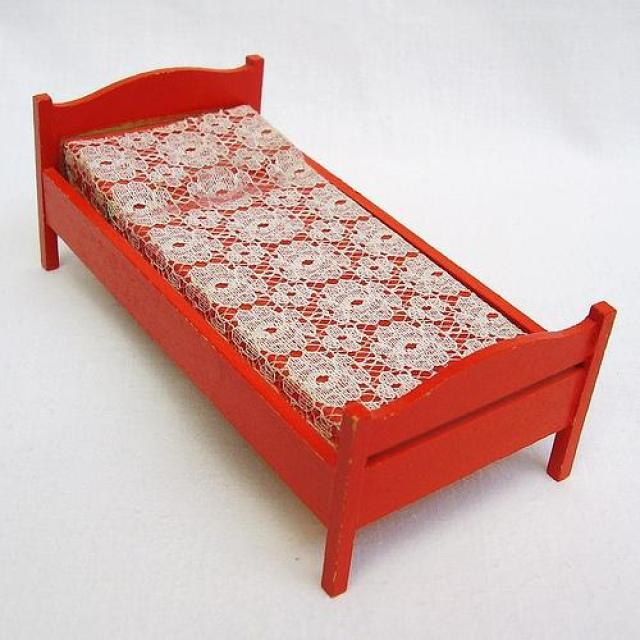bed: (31, 52, 617, 598)
